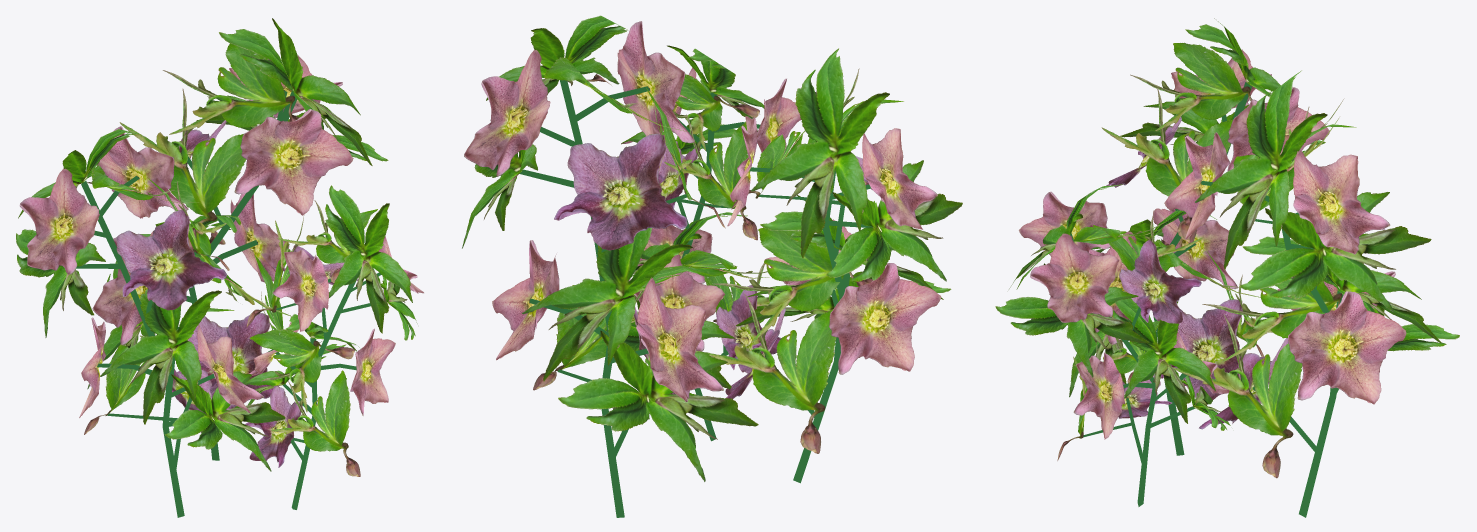
Rendered from m_flower06.fbx.
The picture shows the model from 3 angles, left to right: view 1: azimuth 30°, elevation 25°; view 2: azimuth 150°, elevation 25°; view 3: azimuth 270°, elevation 25°; orthographic projection. The views are drawn at different scales.
Parts seen in each view (by area): view 1: mesh_flower06; view 2: mesh_flower06; view 3: mesh_flower06.
Boxes of the visible parts, box(x1,y1,x2,y2) form: mesh_flower06: box(16, 18, 423, 517); mesh_flower06: box(462, 15, 962, 517); mesh_flower06: box(995, 18, 1459, 517).
Size of the model in its own units: 0.5277 by 0.5822 by 0.5515.
Materials: 1 (1 with a texture image).
